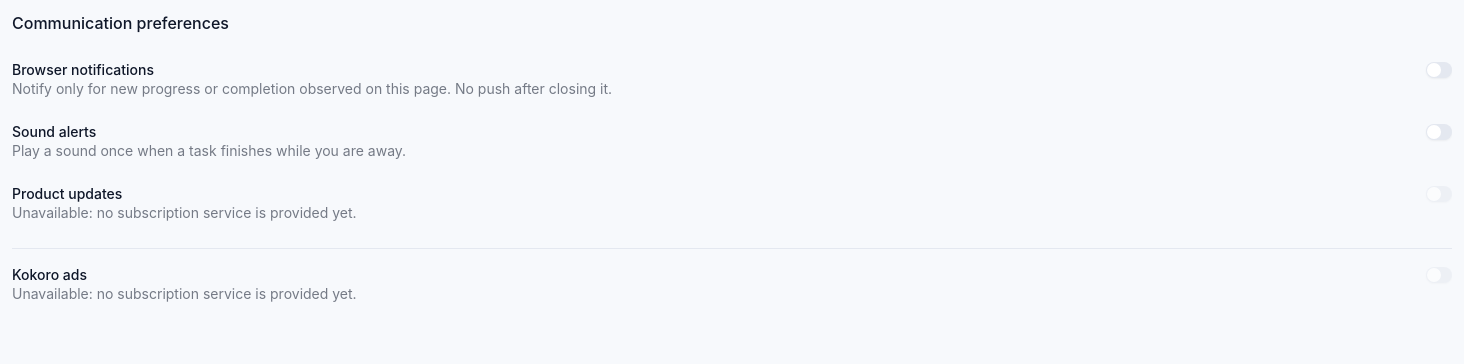
it: subject storage and admitted settings lifecycle › shows save failure and retains unchecked UI without optimistic success
Click the switch named "Browser notifications".
click(1439, 70)  # box [1426,62,1452,78]
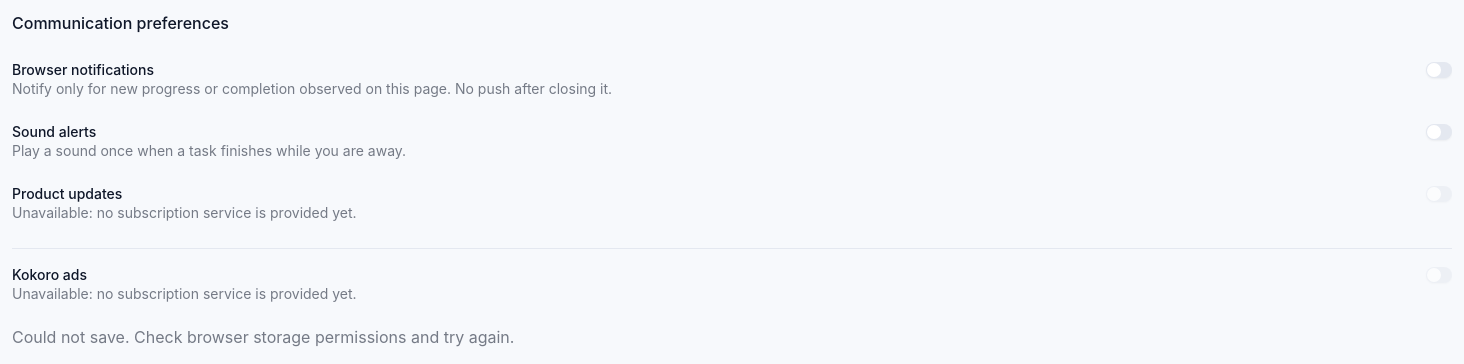
Expected: the message shows "Could not save", [12,327,514,347]
